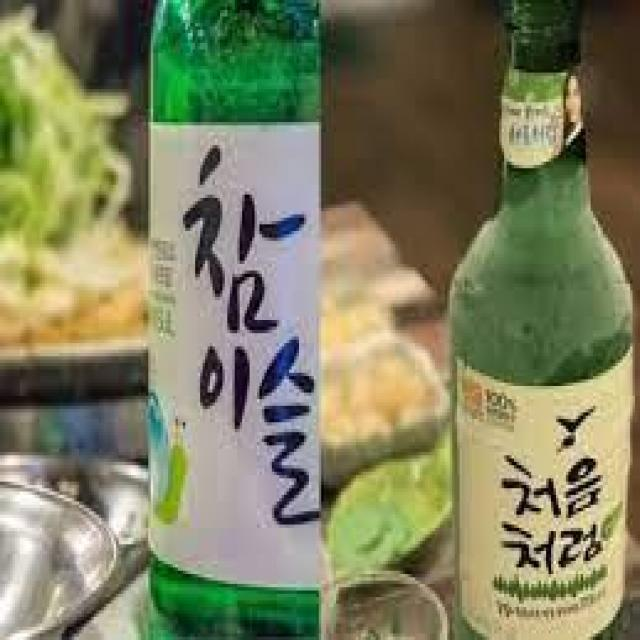soju-bottle: (450, 3, 636, 640), (150, 3, 318, 640)
